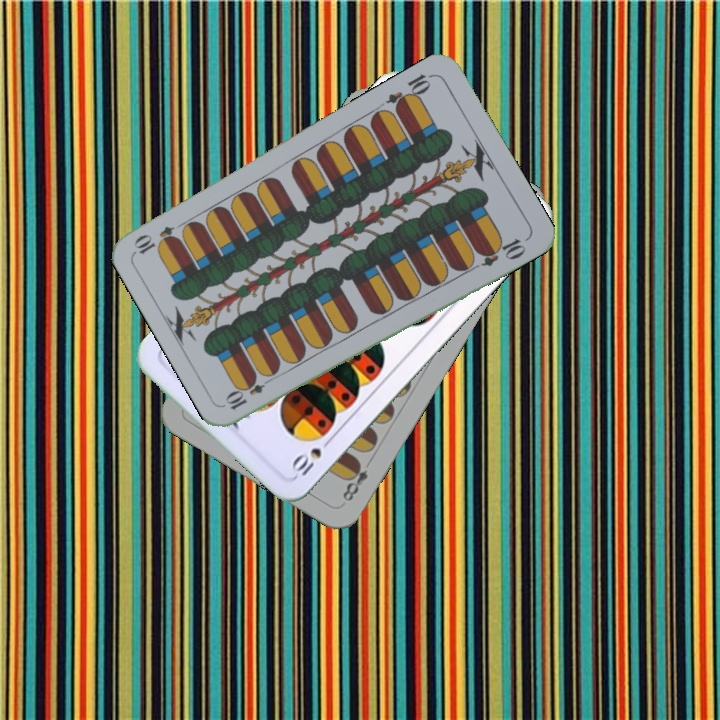E10: (382, 69, 436, 114), (222, 371, 277, 413)
E8: (338, 456, 371, 504)
S10: (287, 433, 336, 480)
